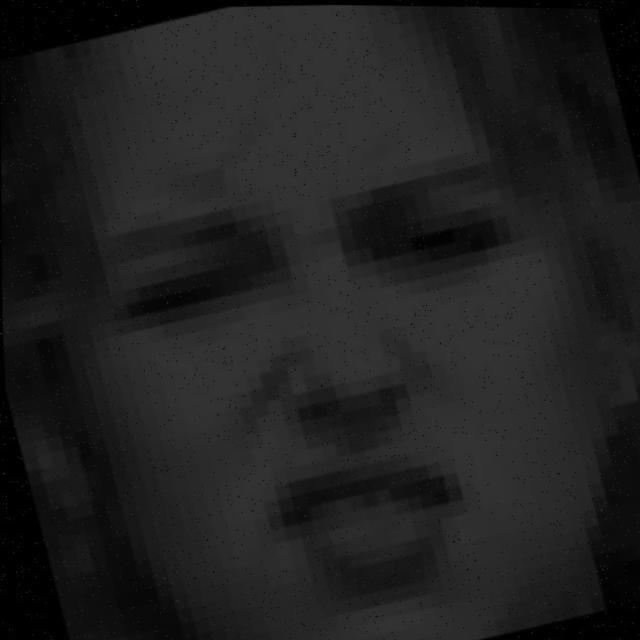Disgust: (51, 90, 640, 639)
